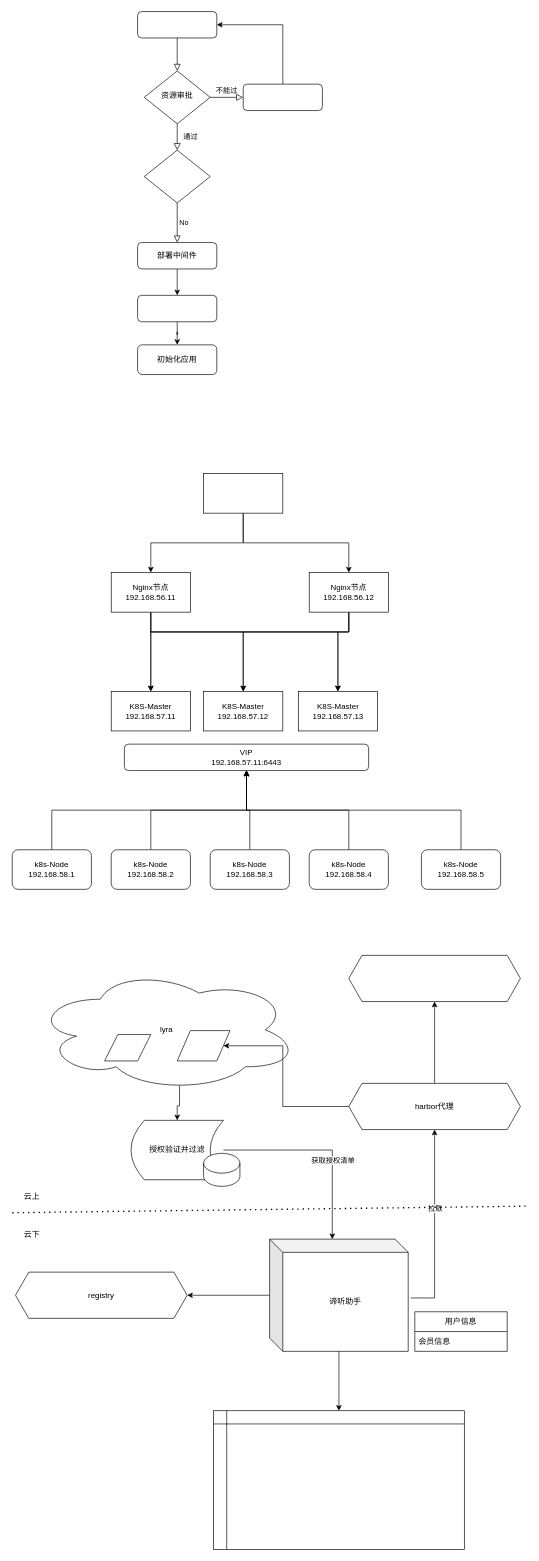
The diagram is 539 pixels wide and 1561 high, and some of its shapes have lost their labels. The shapes that lost their labels are listed below. From the top down, each one's centre as x and y in pixels, then its label:
At (177,24): "资源申请".
At (282,97): "调整资源配置".
At (177,176): "分配资源".
At (177,308): "初始化数据".
At (243,493): "VIP 192.168.56.10".
At (434,978): "harbor".
At (127,1047): "研发中台".
At (203,1045): "云交付".
At (221,1169): "授权清单".
At (338,1479): "云管平台".
